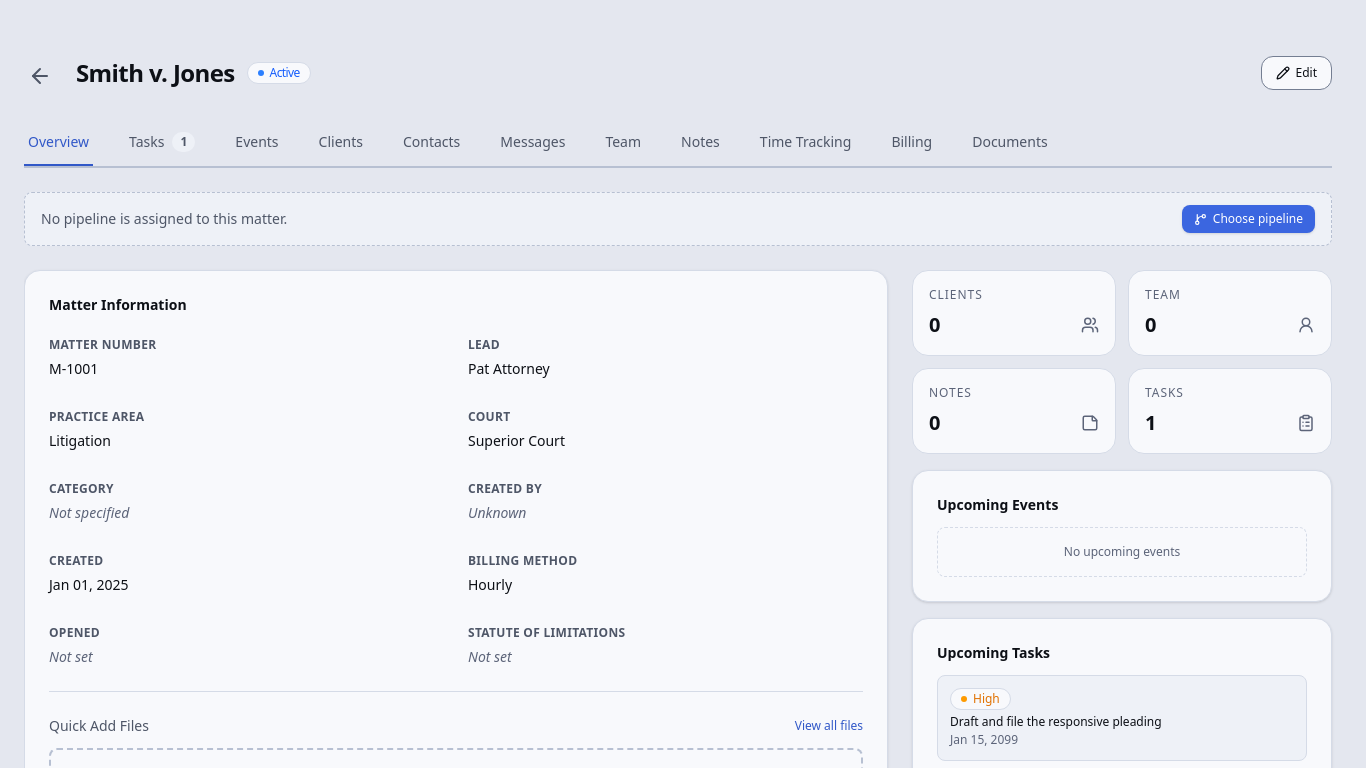
Scenario: the Overview tab's Upcoming Tasks widget › opens the Tasks tab when an item card itself is clicked, not only "View all"
The width and height of the screenshot is (1366, 768).
Expected: the heading "Smith v. Jones Active" is shown, [76, 56, 311, 89]
Expected: the field with placeholder "Search tasks..." is not shown
Click the text "Draft and file the responsive pleading". click: (1056, 722)
box: [950, 713, 1162, 730]
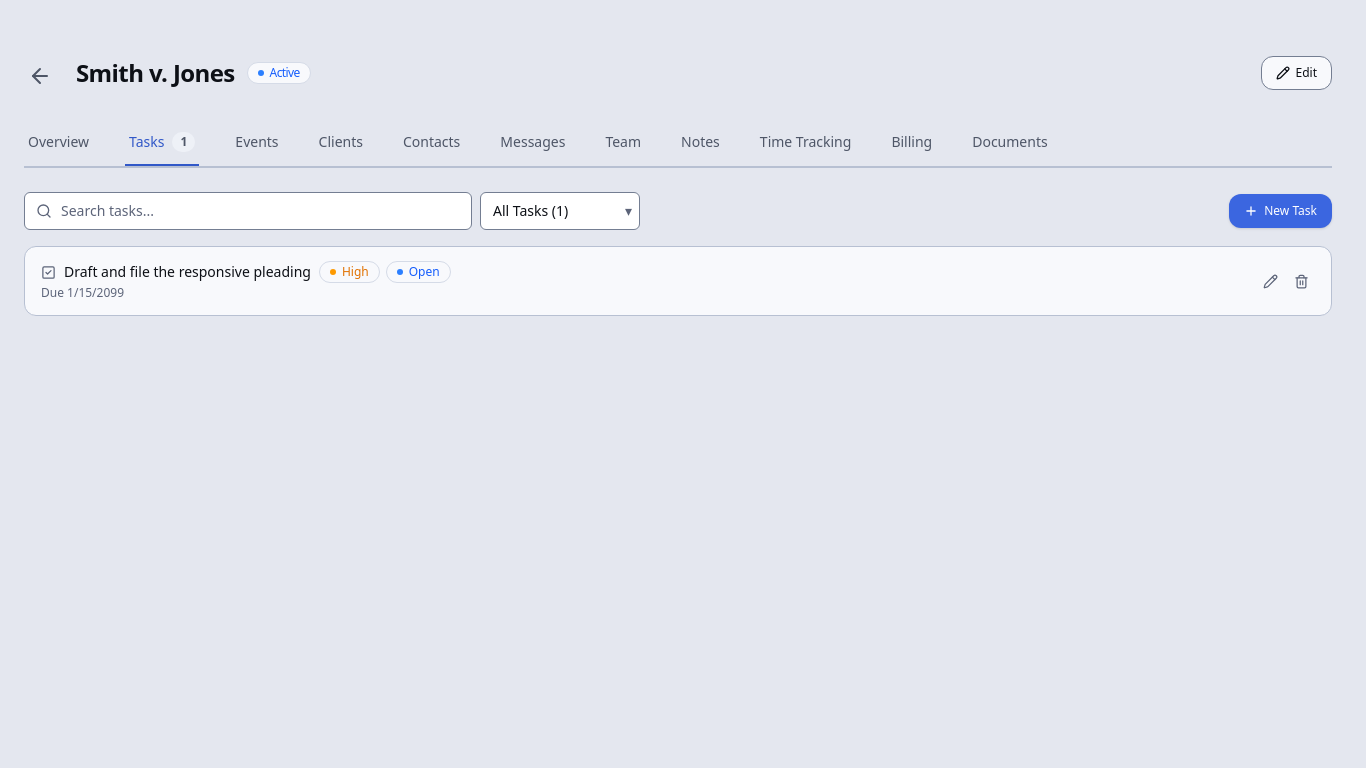
Expected: the field with placeholder "Search tasks..." is shown, [24, 192, 472, 230]
